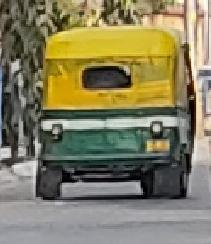Auto: (38, 25, 197, 205)
